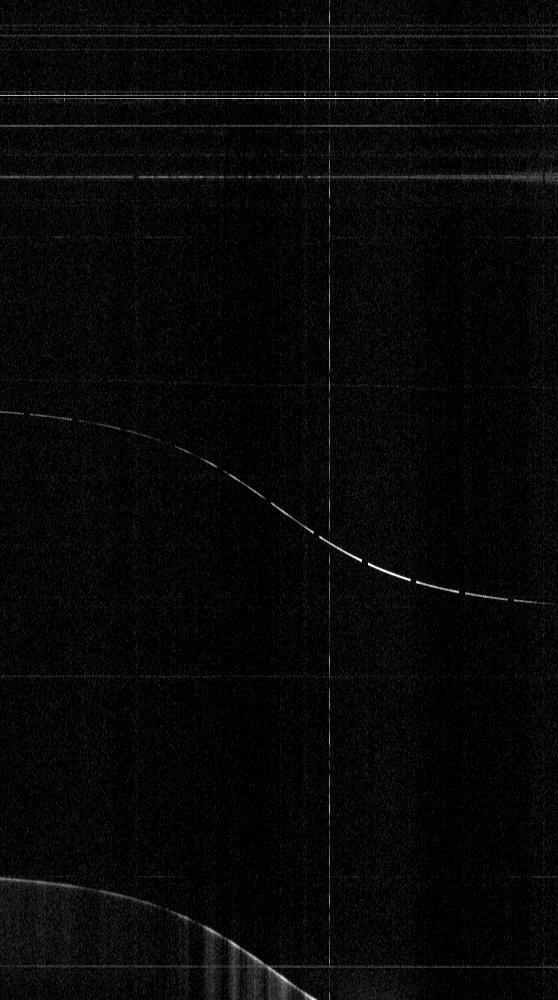signal: (0, 0, 557, 999)
